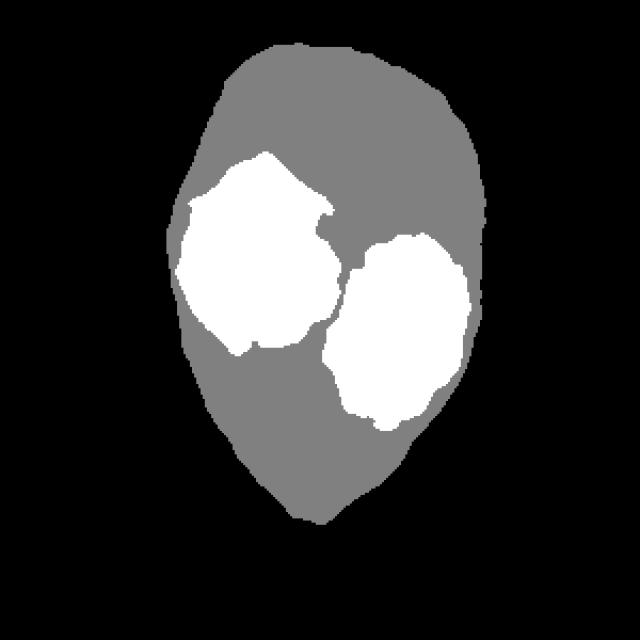WBC: (132, 30, 497, 544)
